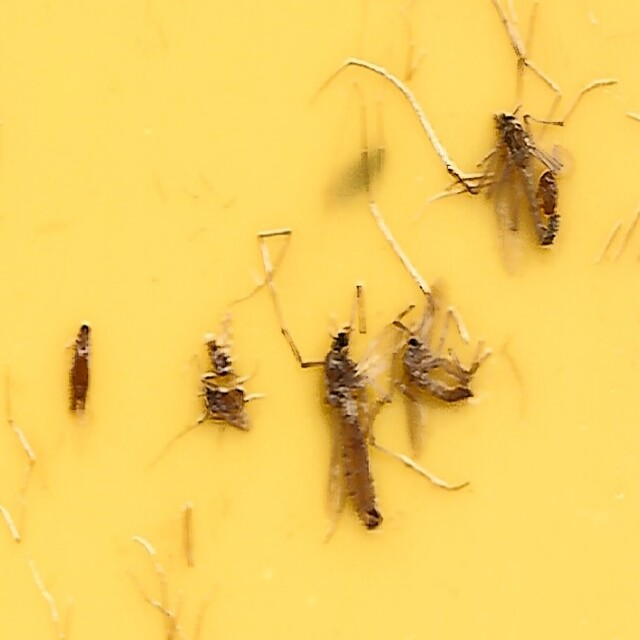Nematocera: (312, 321, 406, 538), (396, 282, 490, 460), (483, 102, 576, 281), (197, 380, 253, 442)
Trichoptera: (64, 324, 96, 410)
